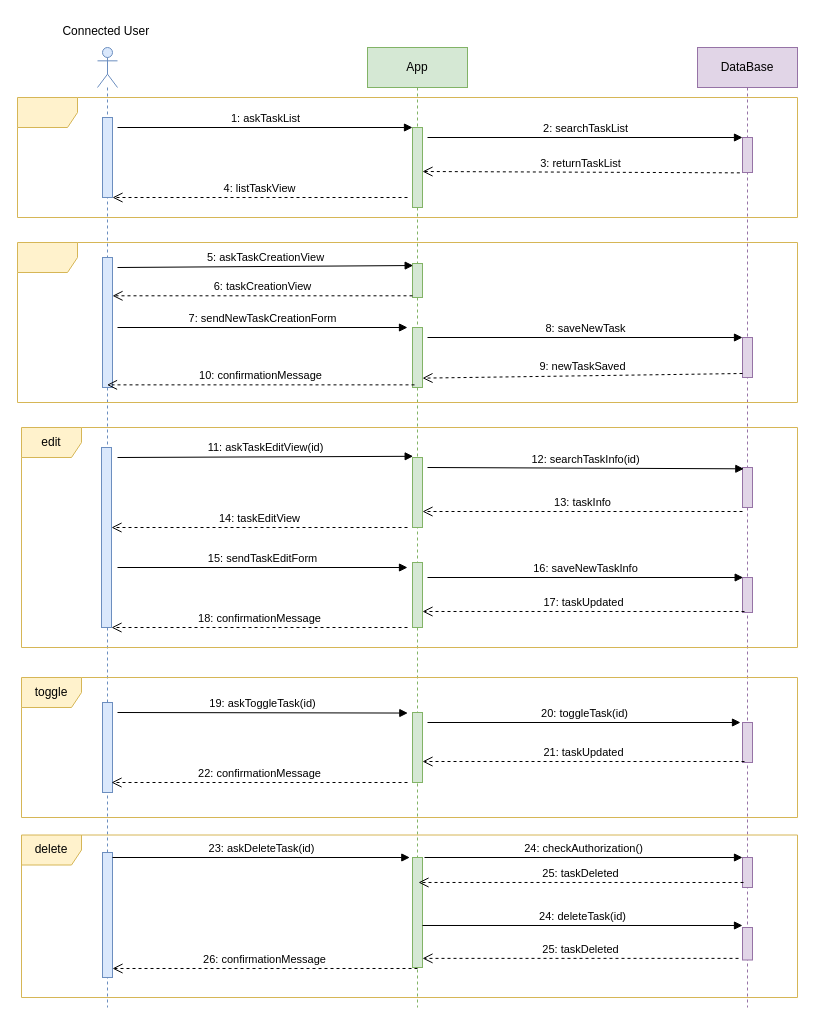
Image size: 815x1025. Some labels were removed from this diagram. Each missing label, with the centre of its shape:
"create" goes at (407,322).
"list" goes at (407,157).
